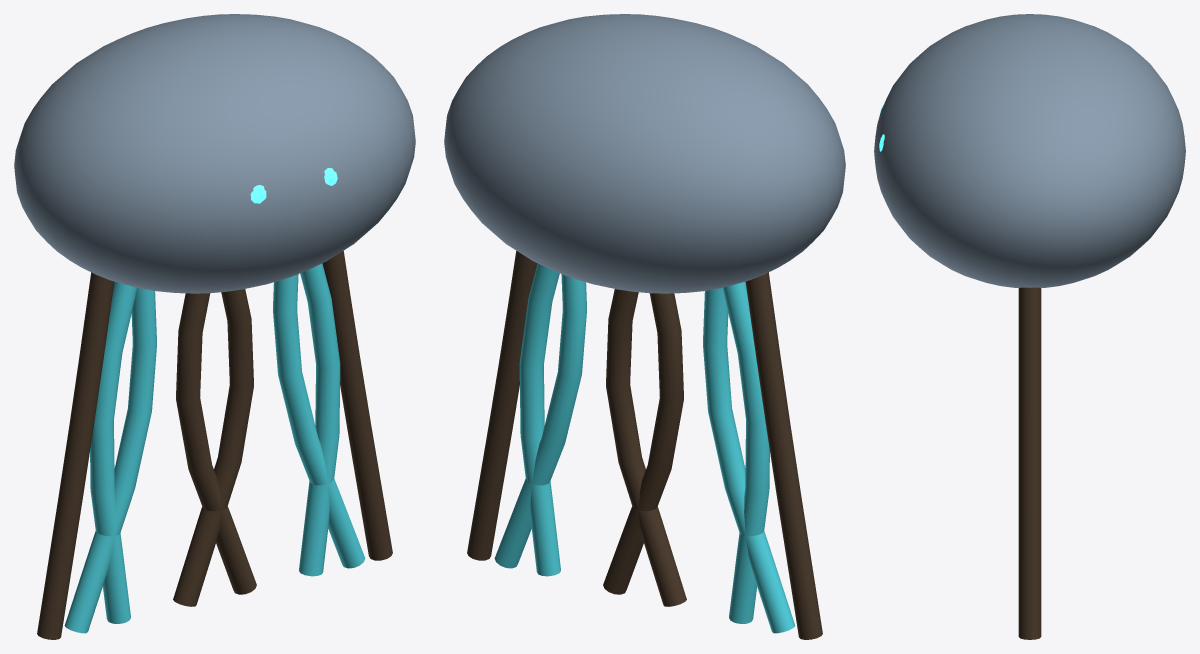
The model's file is aquatic_v7.glb.
The picture shows the model from 3 angles, left to right: view 1: azimuth 30°, elevation 25°; view 2: azimuth 150°, elevation 25°; view 3: azimuth 270°, elevation 25°; orthographic projection. The views are drawn at different scales.
Parts seen in each view (by area): view 1: JELLY_DOME_PRIMARY, JELLY_TENTACLE_SECONDARY.002, JELLY_TENTACLE_ACCENT.002, JELLY_TENTACLE_SECONDARY.003, JELLY_TENTACLE_SECONDARY.001, JELLY_TENTACLE_SECONDARY, JELLY_TENTACLE_ACCENT.001, JELLY_TENTACLE_ACCENT.003, JELLY_TENTACLE_ACCENT; view 2: JELLY_DOME_PRIMARY, JELLY_TENTACLE_SECONDARY.002, JELLY_TENTACLE_ACCENT.002, JELLY_TENTACLE_SECONDARY.003, JELLY_TENTACLE_SECONDARY.001, JELLY_TENTACLE_SECONDARY, JELLY_TENTACLE_ACCENT.001, JELLY_TENTACLE_ACCENT.003, JELLY_TENTACLE_ACCENT; view 3: JELLY_DOME_PRIMARY, JELLY_TENTACLE_SECONDARY.
Part boxes in pixels (x1,y1,x2,y2): JELLY_DOME_PRIMARY: (14, 14, 415, 293); JELLY_TENTACLE_SECONDARY.002: (37, 272, 114, 639); JELLY_TENTACLE_ACCENT.002: (64, 288, 156, 633); JELLY_TENTACLE_SECONDARY.003: (173, 289, 253, 606); JELLY_TENTACLE_SECONDARY.001: (176, 293, 256, 594); JELLY_TENTACLE_SECONDARY: (322, 251, 392, 560); JELLY_TENTACLE_ACCENT.001: (90, 281, 137, 623); JELLY_TENTACLE_ACCENT.003: (299, 263, 340, 576); JELLY_TENTACLE_ACCENT: (273, 274, 365, 568); JELLY_DOME_PRIMARY: (444, 14, 845, 293); JELLY_TENTACLE_SECONDARY.002: (745, 272, 822, 639); JELLY_TENTACLE_ACCENT.002: (703, 288, 795, 633); JELLY_TENTACLE_SECONDARY.003: (606, 289, 686, 606); JELLY_TENTACLE_SECONDARY.001: (603, 293, 683, 594); JELLY_TENTACLE_SECONDARY: (467, 251, 537, 560); JELLY_TENTACLE_ACCENT.001: (722, 281, 769, 623); JELLY_TENTACLE_ACCENT.003: (519, 263, 560, 576); JELLY_TENTACLE_ACCENT: (494, 274, 586, 568); JELLY_DOME_PRIMARY: (874, 14, 1185, 287); JELLY_TENTACLE_SECONDARY: (1018, 287, 1041, 639).
Bounding box in the file's own units: 1.56 × 2.29 × 1.24.
